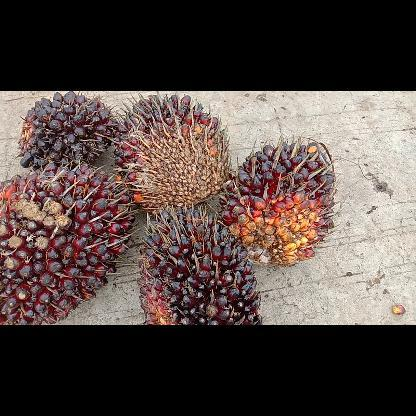TBS mentah: (0, 160, 138, 324), (106, 91, 232, 215), (219, 135, 339, 265), (136, 202, 260, 324), (17, 90, 117, 170)
